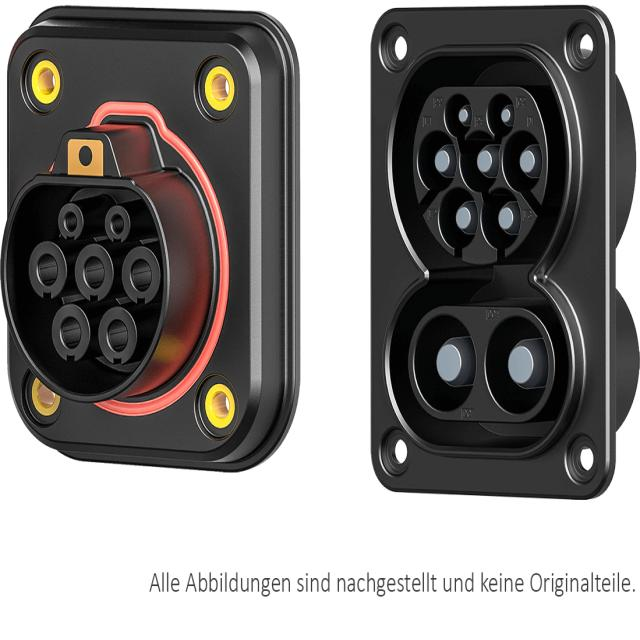inlet: (413, 86, 548, 264)
inlet-above-left: (444, 93, 473, 137)
inlet-above-right: (487, 93, 515, 137)
inlet-below-left: (438, 186, 478, 249)
inlet-below-right: (481, 187, 522, 249)
inlet-circle: (459, 130, 499, 194)
inlet-circle-left: (417, 130, 457, 191)
inlet-circle-right: (502, 130, 543, 193)
inlet-minus: (485, 315, 550, 415)
inlet-plus: (414, 314, 477, 412)
